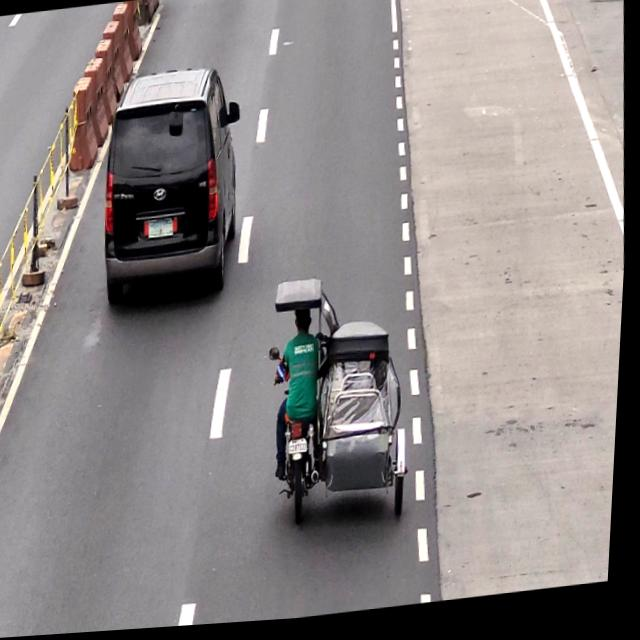Car: (96, 65, 251, 302)
License-Plate: (148, 216, 179, 244), (291, 440, 316, 463)
Tricycle: (265, 269, 427, 536)
